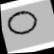no answer: (1, 3, 47, 44)
